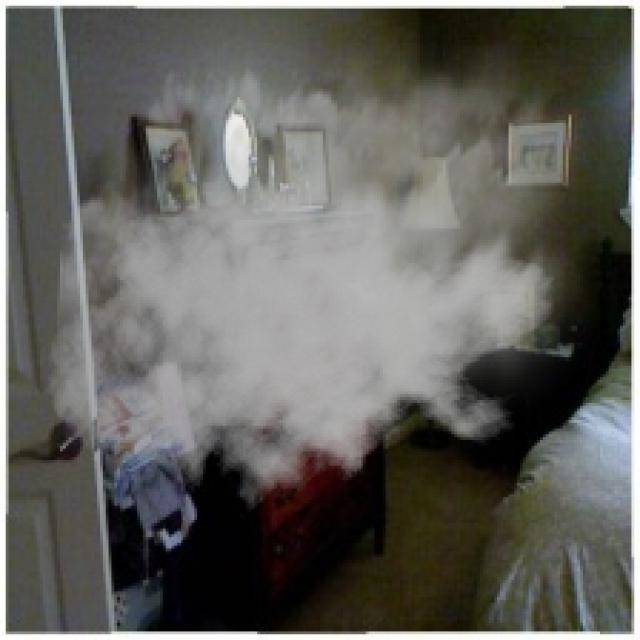smoke: (45, 8, 606, 526)
